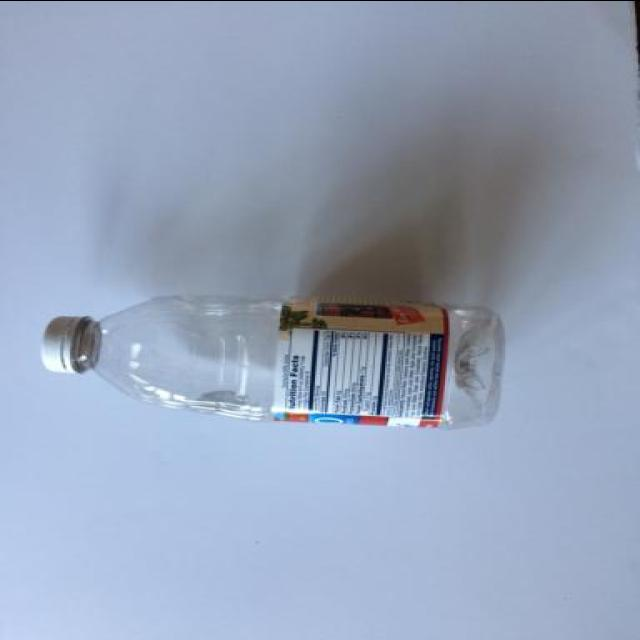non-organik: (21, 260, 528, 455), (48, 296, 507, 428)
